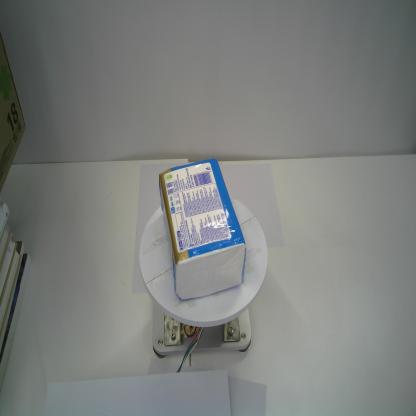Tissue: (158, 157, 247, 301)
